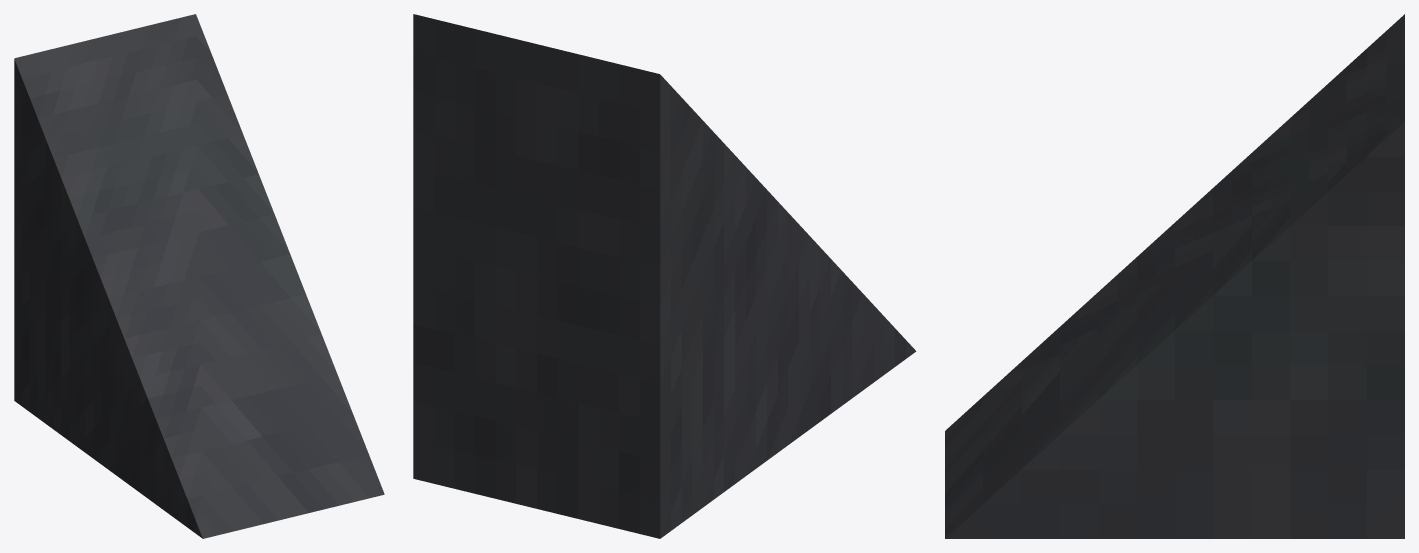
File: Stair with 7step LowPoly.fbx
3 renders of one model, left to right at view 1: azimuth 30°, elevation 25°; view 2: azimuth 150°, elevation 25°; view 3: azimuth 270°, elevation 25°, orthographic. The views are drawn at different scales.
Visible parts, largest first — view 1: Stair LOD; view 2: Stair LOD; view 3: Stair LOD.
Boxes of the visible parts, x1,y1,x2,y2 form: Stair LOD: [14, 14, 384, 538]; Stair LOD: [413, 14, 916, 538]; Stair LOD: [945, 14, 1404, 538].
Bounding box in the file's own units: 1000 × 1800 × 1800.
1 material, 1 textured.
